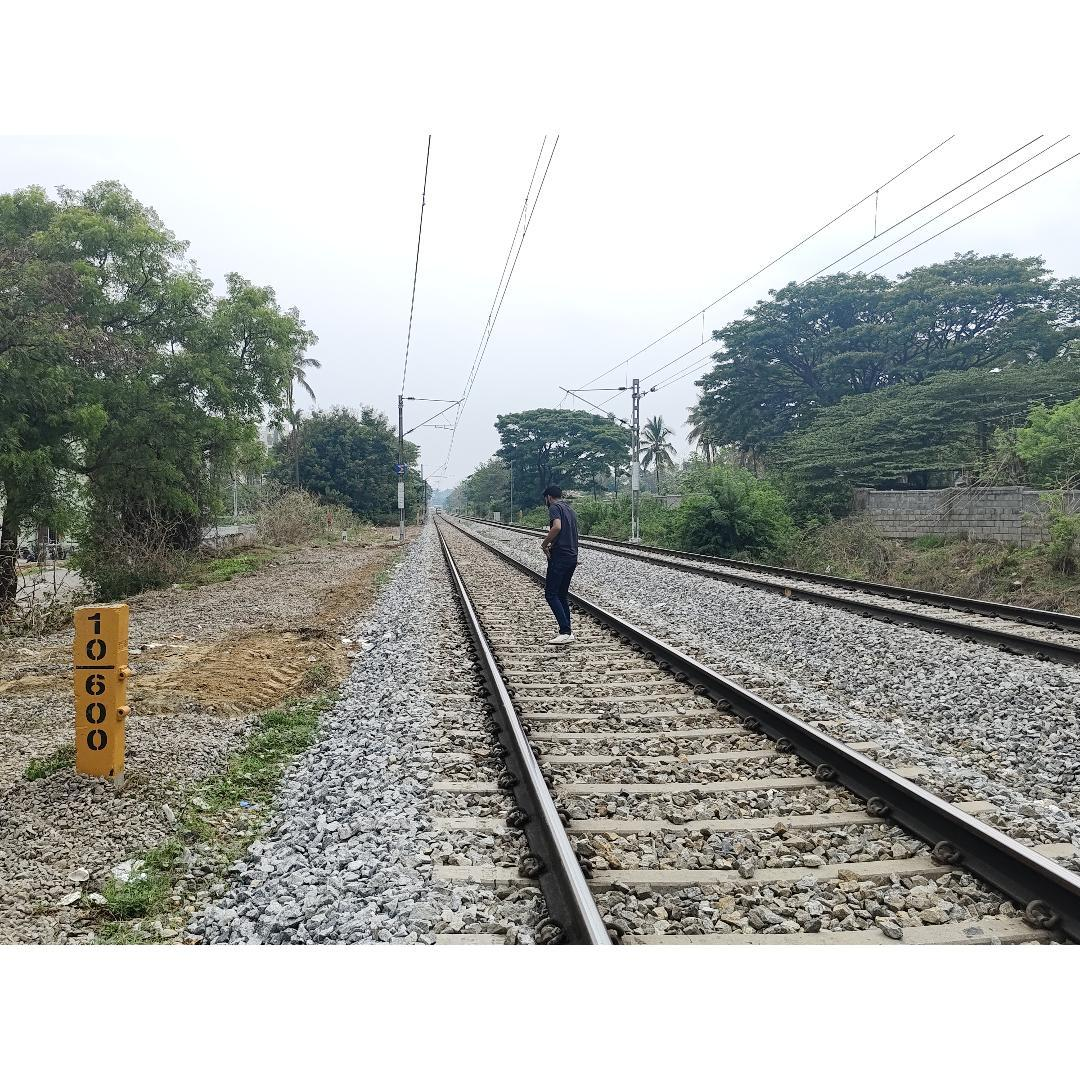standing: (539, 484, 581, 644)
track: (422, 510, 1077, 945)
